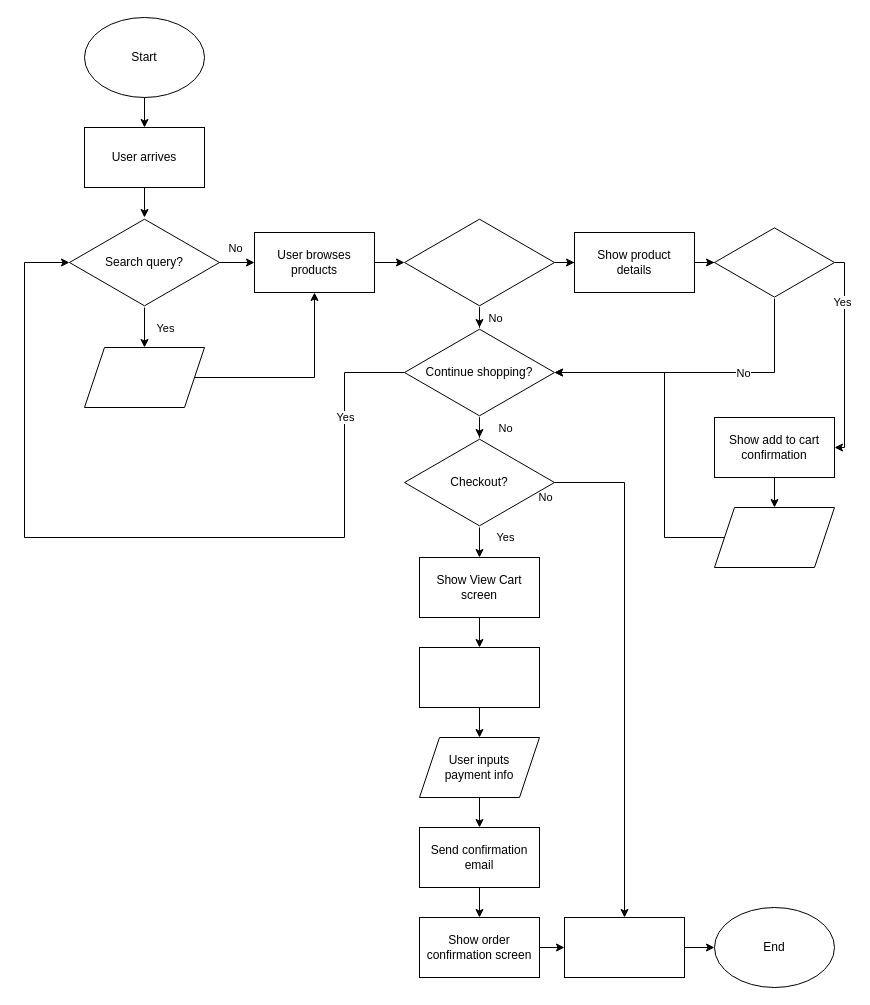
The diagram is 870 pixels wide and 1005 high, and some of its shapes have lost their labels. The shapes that lost their labels are listed below. From the top down, each one's centre as x and y in pixels, then its label:
the point at 479,262: View specific product?
the point at 774,262: Add to cart?
the point at 144,377: Read search query
the point at 774,537: Add item to cart
the point at 479,677: Show View Payment screen
the point at 624,947: User leaves site
